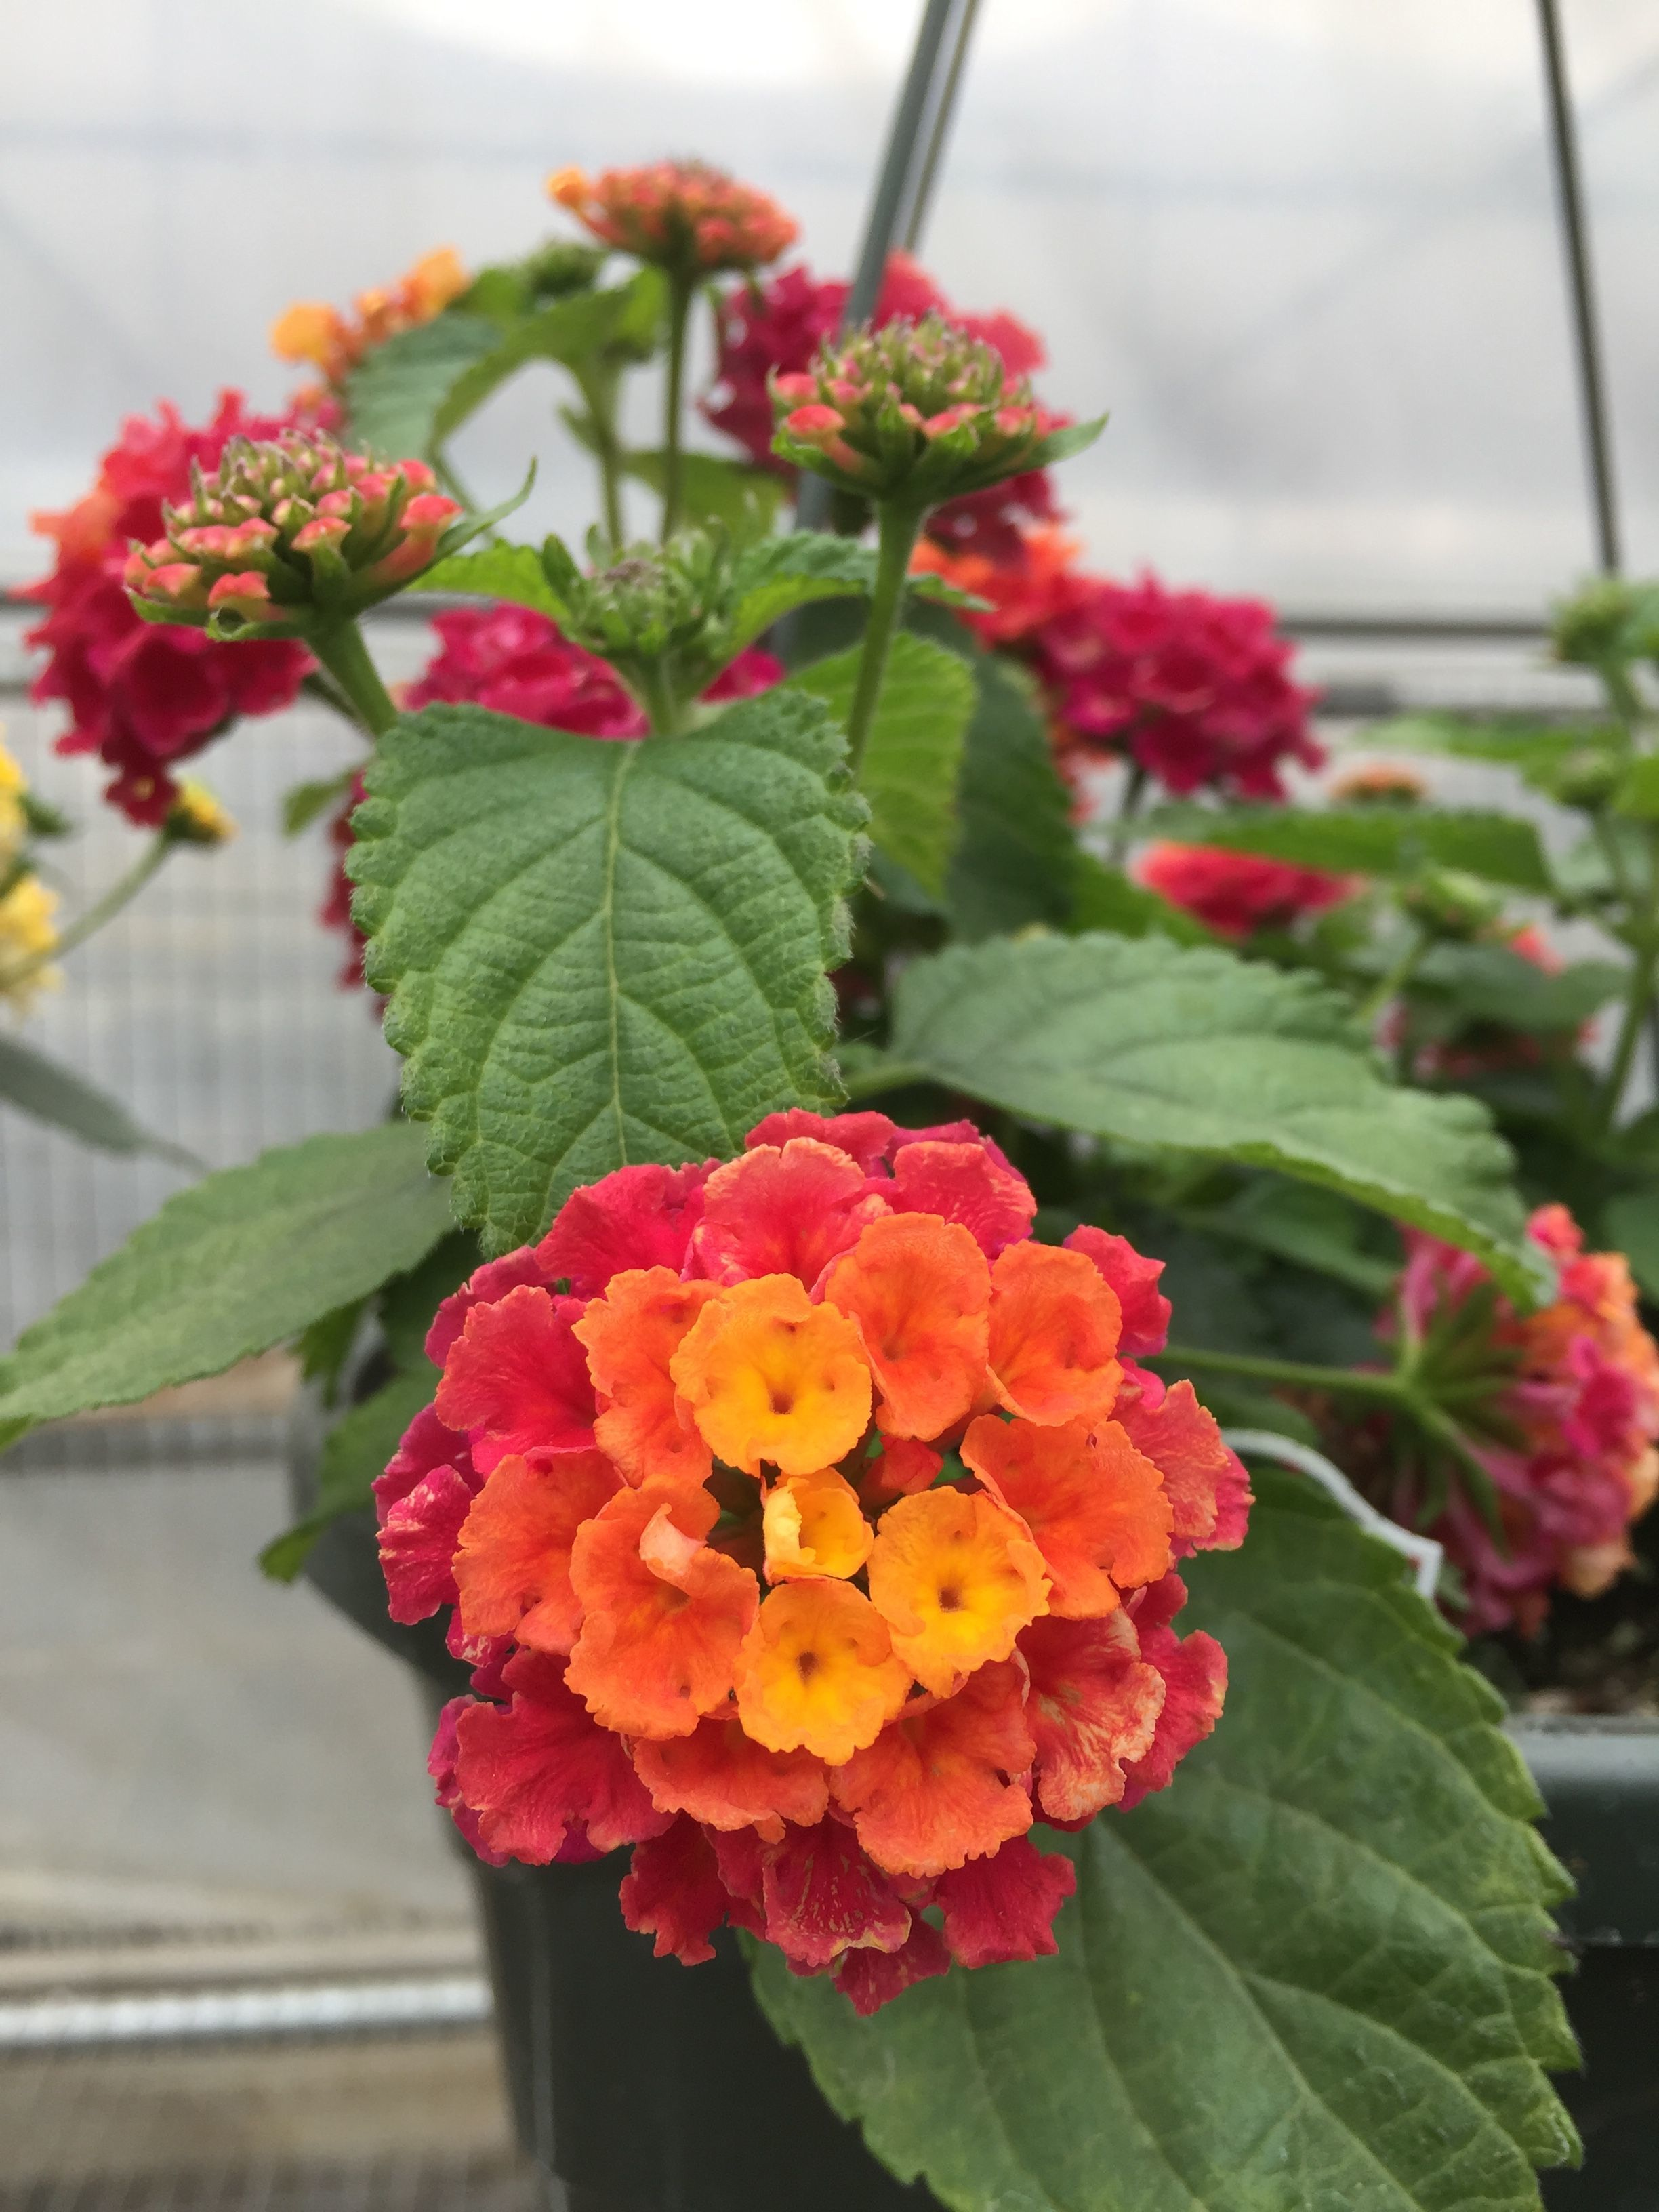lantana: (418, 1679, 653, 1855), (577, 1496, 753, 1726), (964, 1411, 1175, 1599), (993, 1597, 1161, 1815), (847, 1695, 1042, 1867), (586, 1273, 742, 1480), (467, 1454, 634, 1648), (866, 1496, 1049, 1672), (838, 1216, 983, 1426), (694, 1285, 863, 1463), (741, 1595, 918, 1742), (981, 1244, 1115, 1414), (708, 1150, 875, 1266)
